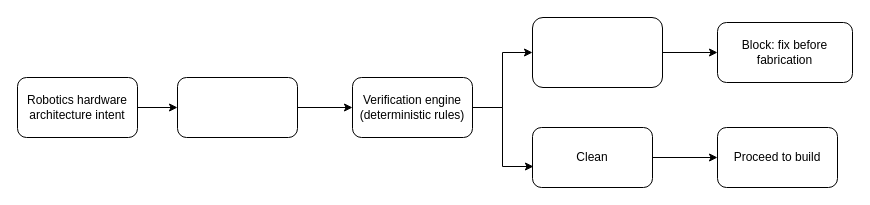
The diagram is 870 pixels wide and 205 high, and some of its shapes have lost their labels. The shapes that lost their labels are listed below. From the top down, each one's centre as x and y in pixels, then its label:
point 597,52: Findings: INFO , WARN , ERROR
point 237,107: Hardware spec in YAML (machine checkable)
